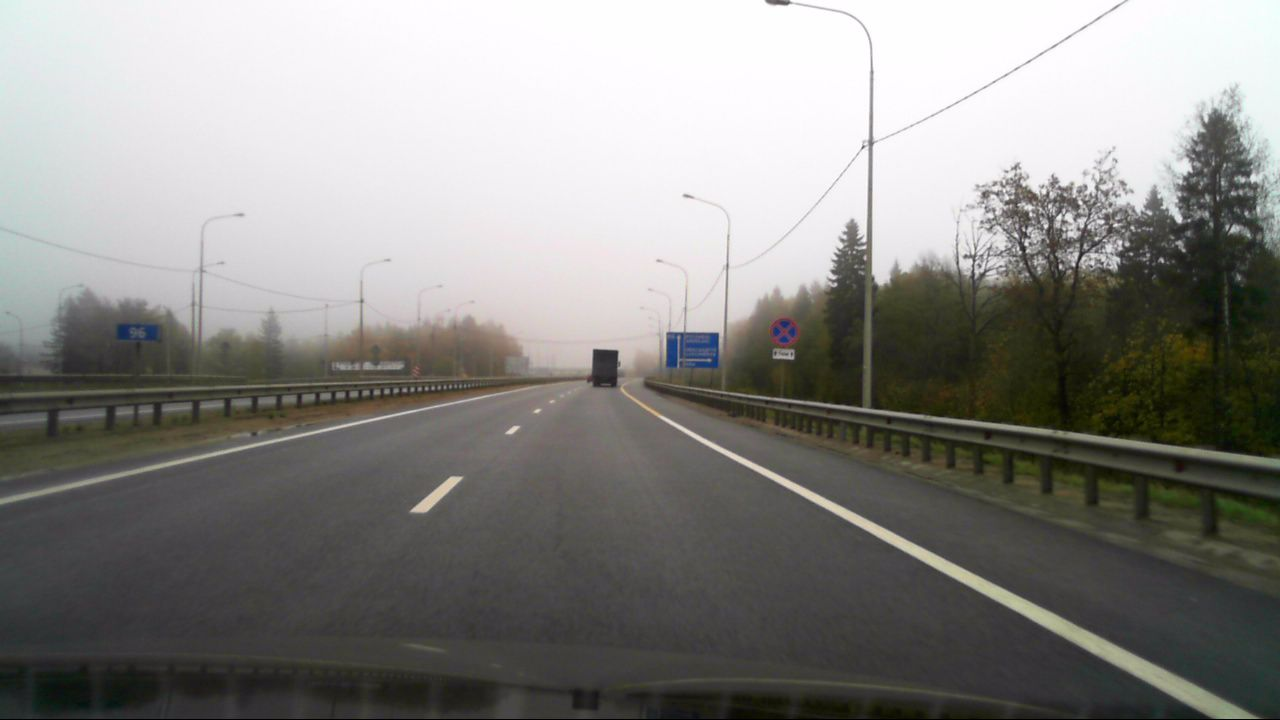No Parking: (768, 316, 799, 346)
